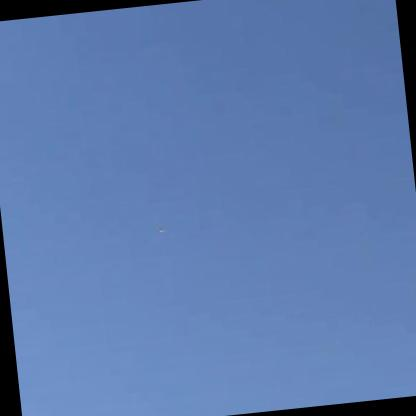plane: (152, 225, 171, 237)
